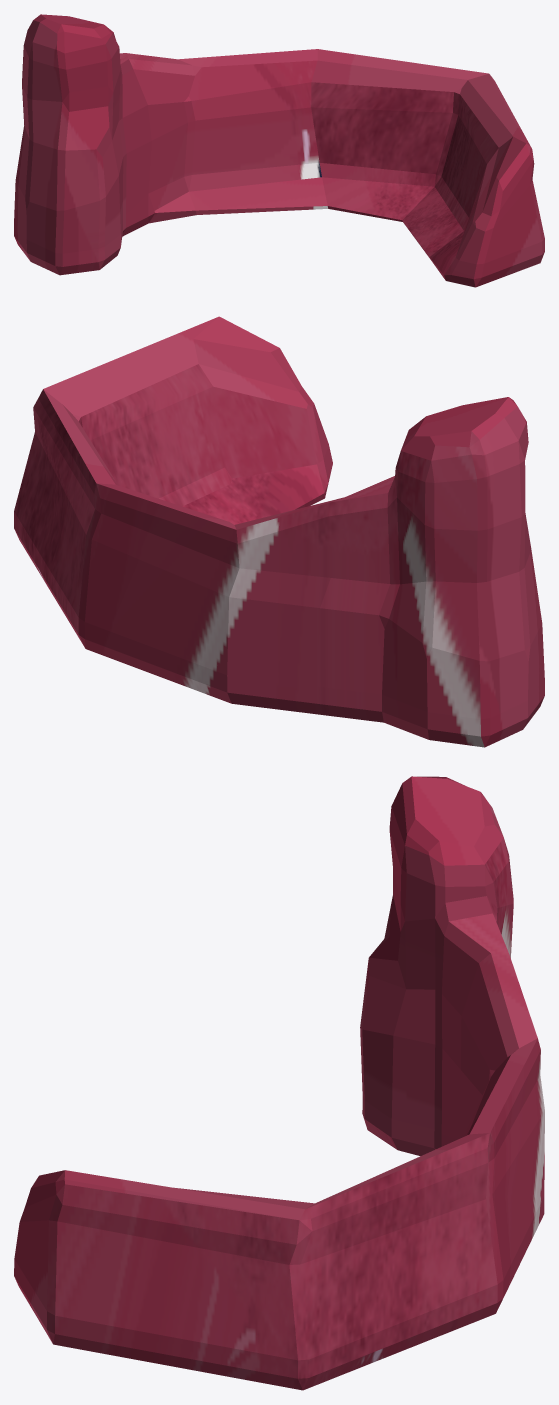
Rendered from TrenchBowlTextured.fbx.
The picture shows the model from 3 angles, top to bottom: view 1: azimuth 30°, elevation 25°; view 2: azimuth 150°, elevation 25°; view 3: azimuth 270°, elevation 25°; orthographic projection. The views are drawn at different scales.
Parts seen in each view (by area): view 1: Bowl; view 2: Bowl; view 3: Bowl.
Part boxes in pixels (x1,y1,x2,y2): Bowl: (14, 14, 544, 287); Bowl: (14, 316, 544, 747); Bowl: (14, 776, 544, 1390).
Bounding box in the file's own units: 1701 × 893 × 1269.
